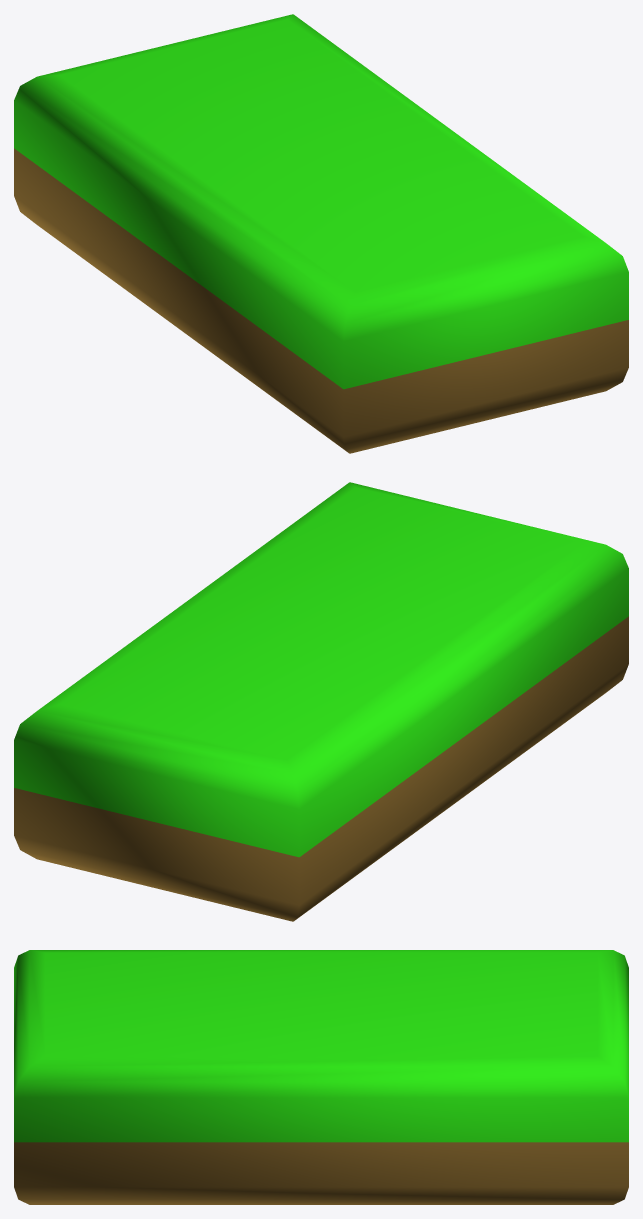
The model's file is platform.glb.
3 views of the same model, one above another, from view 1: azimuth 30°, elevation 25°; view 2: azimuth 150°, elevation 25°; view 3: azimuth 270°, elevation 25° (orthographic). The views are drawn at different scales.
Parts seen in each view (by area): view 1: Cube; view 2: Cube; view 3: Cube.
Boxes of the visible parts, left/top/right/bottom form: Cube: left=14, top=14, right=628, bottom=453; Cube: left=14, top=482, right=628, bottom=921; Cube: left=14, top=950, right=628, bottom=1204.
Size of the model in its own units: 2 by 1.05 by 4.
